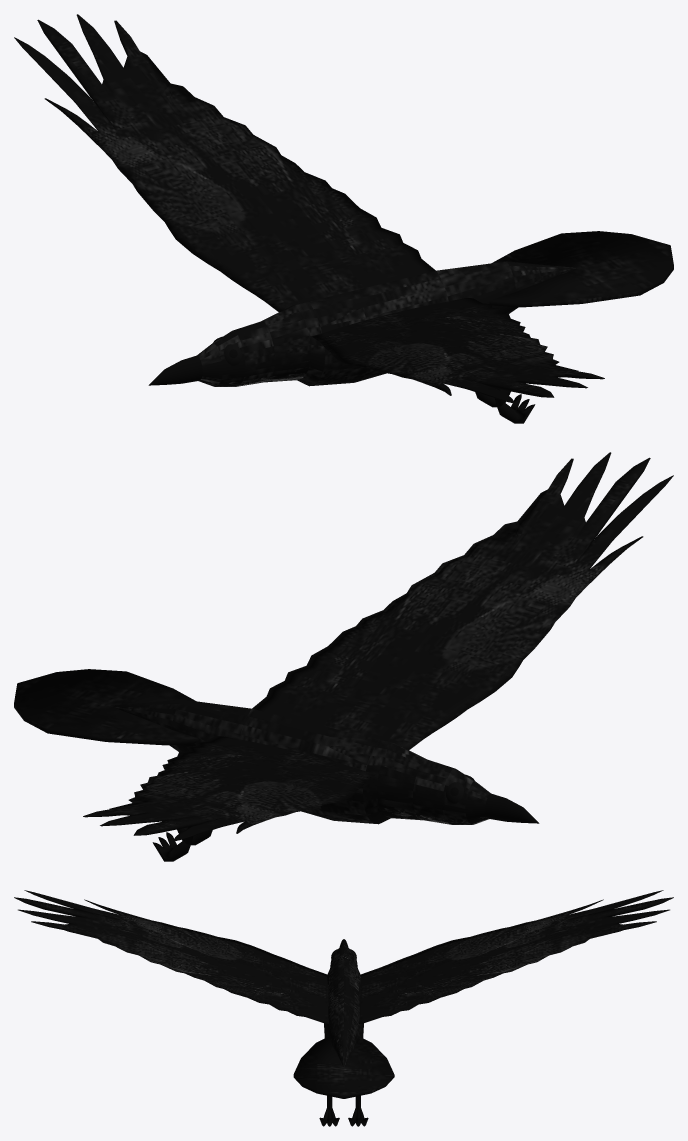
The model's file is bird.obj.
The picture shows the model from 3 angles, top to bottom: view 1: azimuth 30°, elevation 25°; view 2: azimuth 150°, elevation 25°; view 3: azimuth 270°, elevation 25°; orthographic projection. The views are drawn at different scales.
Parts seen in each view (by area): view 1: Mesh9 Component_2_2 Component_8_1 Model, Mesh16 Component_8_1 Model, Mesh2 Component_2_1 Component_8_1 Model, Mesh1 Component_4_1 Component_8_1 Model; view 2: Mesh2 Component_2_1 Component_8_1 Model, Mesh16 Component_8_1 Model, Mesh9 Component_2_2 Component_8_1 Model, Mesh1 Component_4_1 Component_8_1 Model; view 3: Mesh2 Component_2_1 Component_8_1 Model, Mesh9 Component_2_2 Component_8_1 Model, Mesh1 Component_4_1 Component_8_1 Model, Mesh16 Component_8_1 Model.
Part boxes in pixels (bbox=[...]): Mesh9 Component_2_2 Component_8_1 Model: bbox=[14, 14, 435, 311]; Mesh16 Component_8_1 Model: bbox=[148, 261, 576, 386]; Mesh2 Component_2_1 Component_8_1 Model: bbox=[312, 298, 604, 403]; Mesh1 Component_4_1 Component_8_1 Model: bbox=[489, 231, 673, 307]; Mesh2 Component_2_1 Component_8_1 Model: bbox=[252, 452, 673, 749]; Mesh16 Component_8_1 Model: bbox=[111, 699, 539, 824]; Mesh9 Component_2_2 Component_8_1 Model: bbox=[83, 736, 375, 841]; Mesh1 Component_4_1 Component_8_1 Model: bbox=[14, 669, 198, 745]; Mesh2 Component_2_1 Component_8_1 Model: bbox=[14, 890, 329, 1023]; Mesh9 Component_2_2 Component_8_1 Model: bbox=[359, 890, 673, 1023]; Mesh1 Component_4_1 Component_8_1 Model: bbox=[293, 1036, 394, 1098]; Mesh16 Component_8_1 Model: bbox=[324, 939, 363, 1066].
Bounding box in the file's own units: 31.75 × 14.83 × 54.36.
